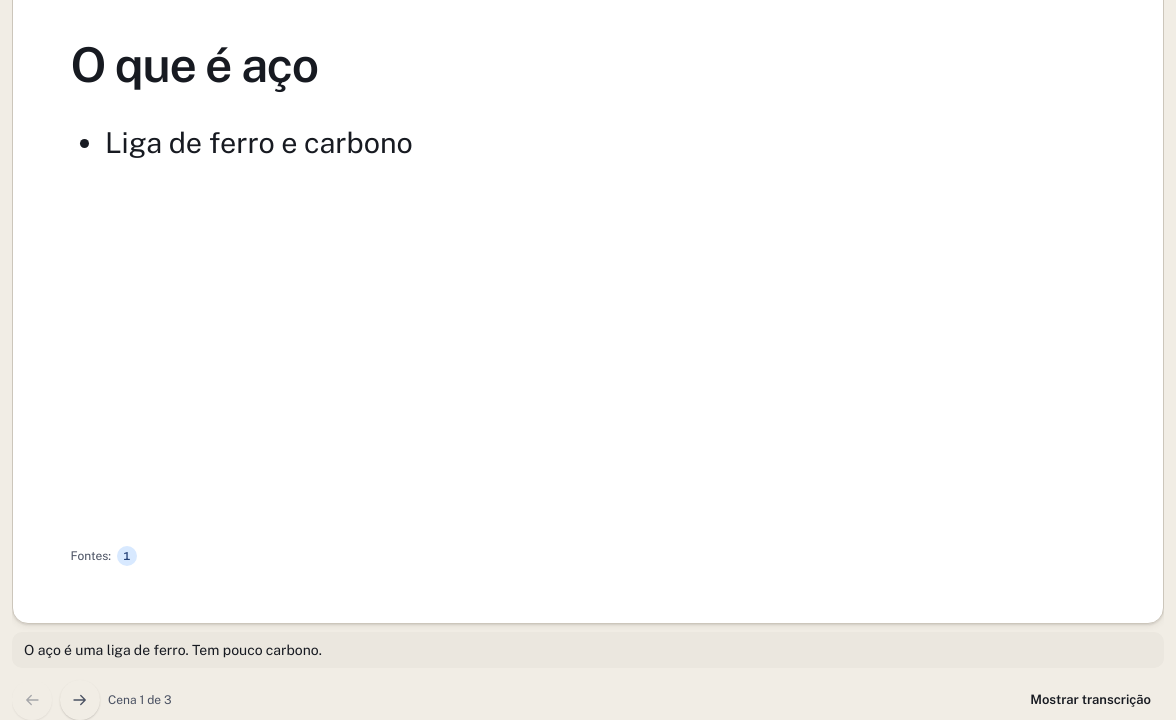
Test: VideoView (D-98) › without a voice, says so and becomes a deck navigated by hand, captions kept
(page scrolled)
Click the button named "Próximo slide" at (80, 700), box [60,680,100,719]
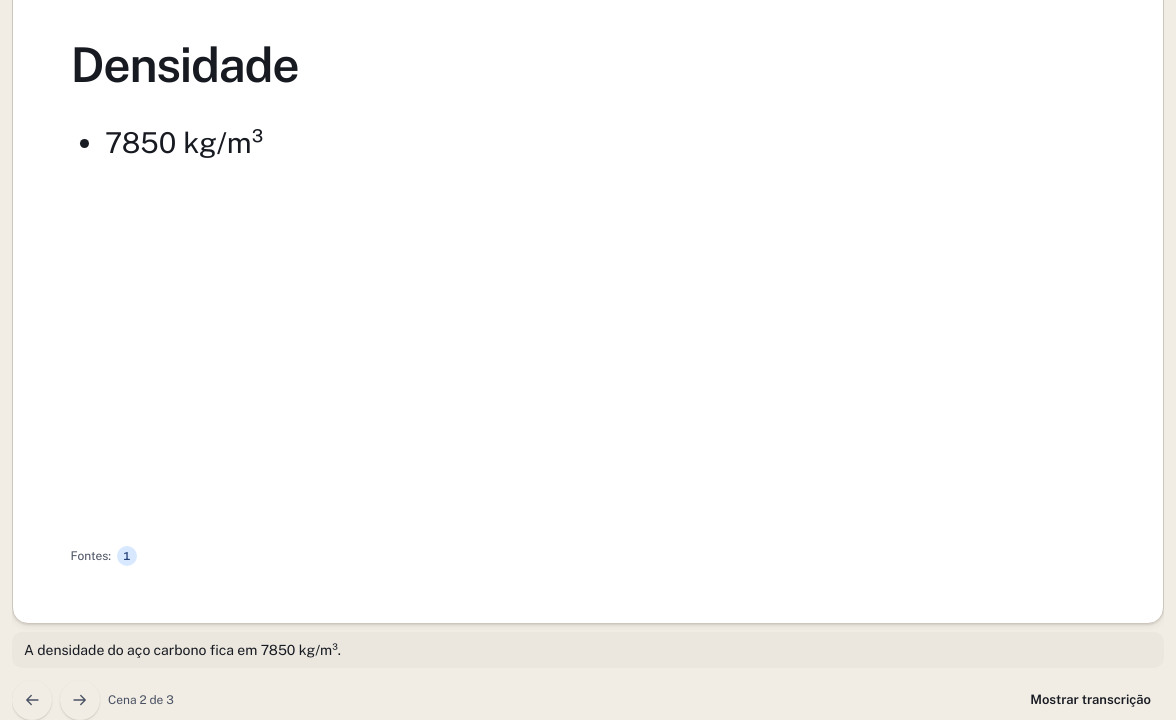
Result: the heading reads "Densidade" at [70,36,298,92]
Click the button named "Slide anterior" at (32, 700), box [12,680,52,719]
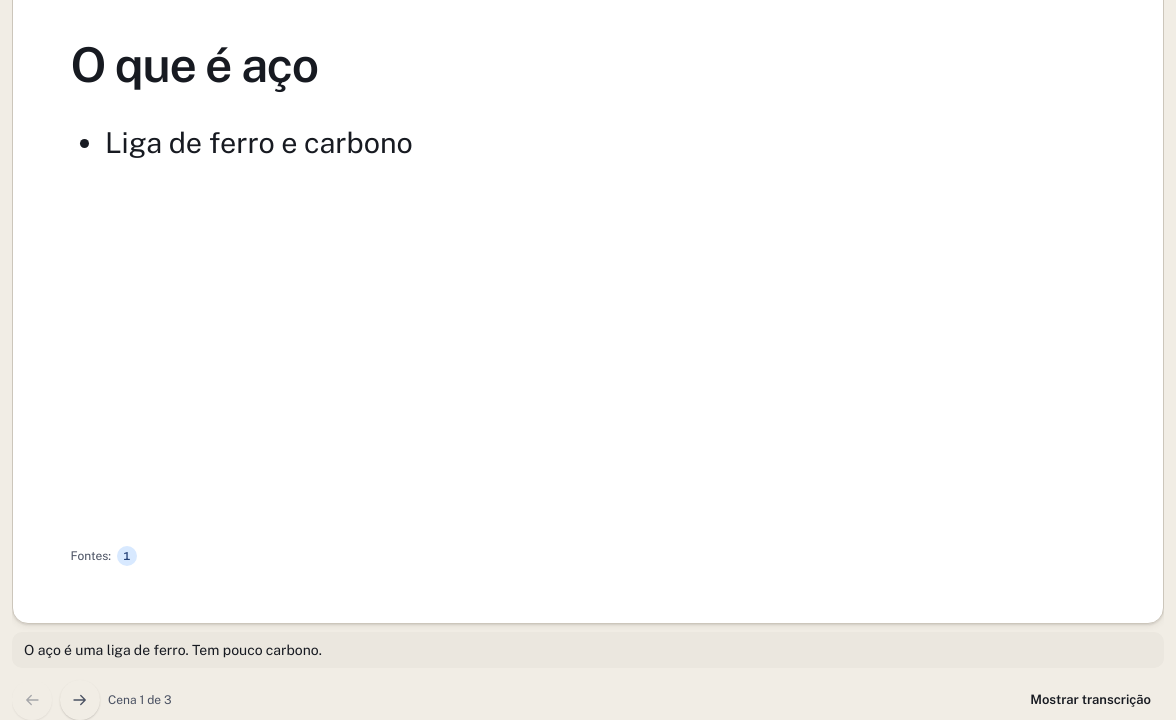
Result: the heading reads "O que é aço" at [70,36,318,92]
